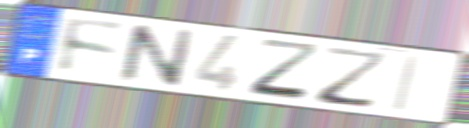4: (190, 32, 244, 96)
F: (56, 15, 129, 77)
I: (389, 54, 424, 115)
N: (116, 22, 198, 89)
Z: (246, 36, 325, 104), (315, 45, 392, 112)
